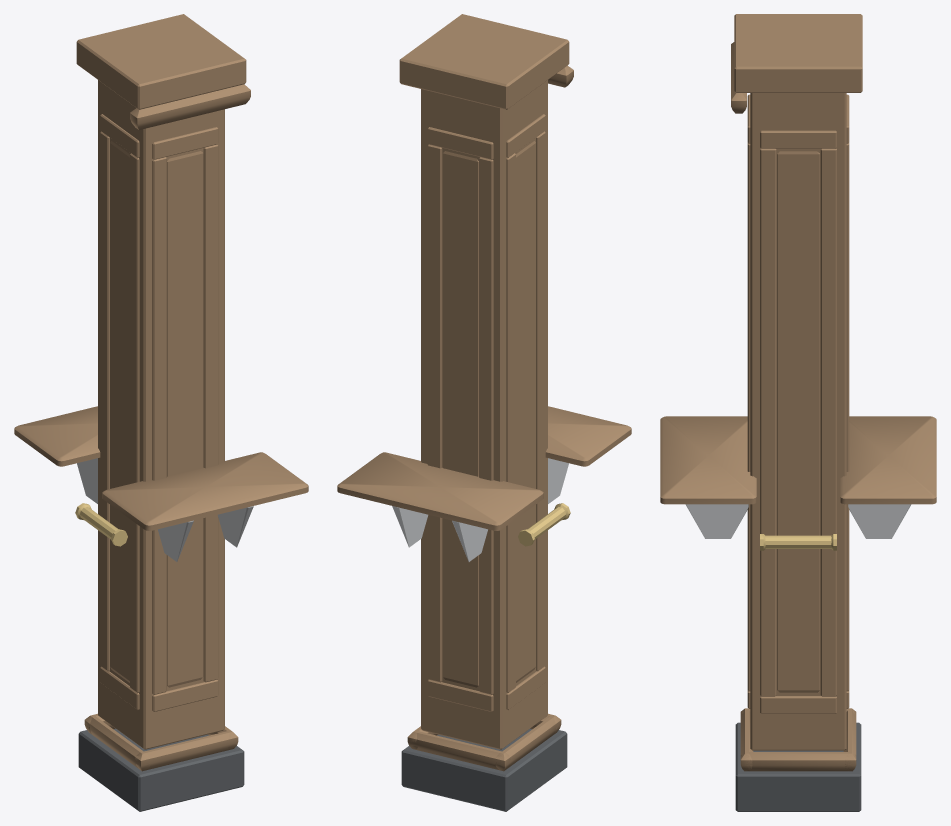
The model's file is bar-pub-and-brewery-taproom-pillar-with-brass-rail-af665487__18422.glb.
The picture shows the model from 3 angles, left to right: view 1: azimuth 30°, elevation 25°; view 2: azimuth 150°, elevation 25°; view 3: azimuth 270°, elevation 25°; orthographic projection. The views are drawn at different scales.
Visible parts, largest first — view 1: pillar-with-brass-rail; view 2: pillar-with-brass-rail; view 3: pillar-with-brass-rail.
Part boxes in pixels (x1=…): pillar-with-brass-rail: x1=14, y1=14, x2=308, y2=811; pillar-with-brass-rail: x1=337, y1=14, x2=631, y2=811; pillar-with-brass-rail: x1=660, y1=14, x2=936, y2=811.
Size of the model in its own units: 0.5998 by 2.56 by 0.86.
